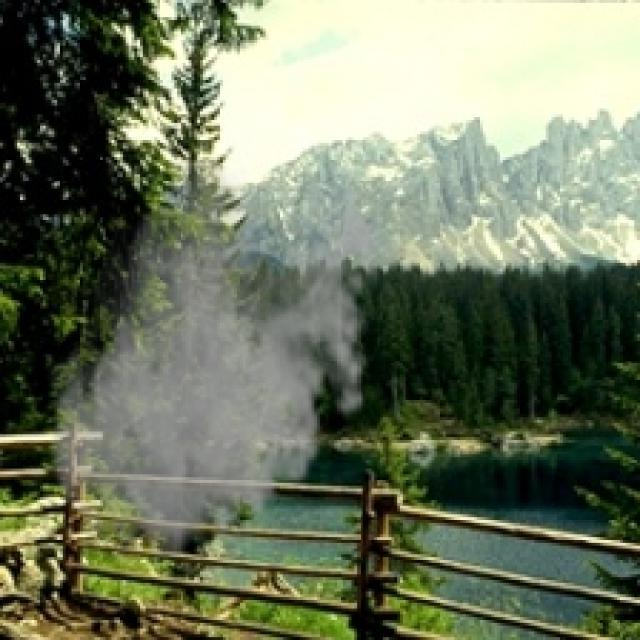Smoke: (42, 157, 388, 574)
